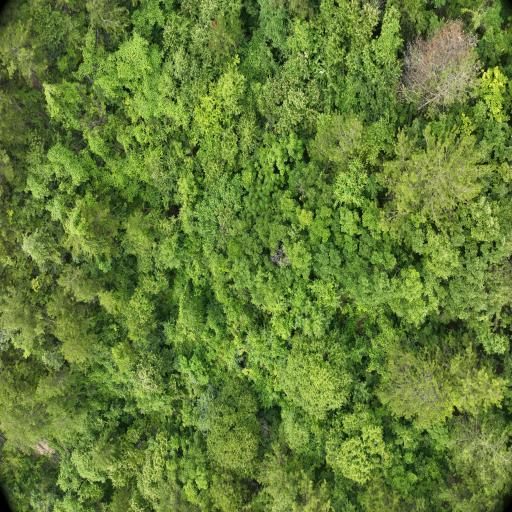dead-tree: (413, 40, 449, 63), (446, 24, 465, 58)
